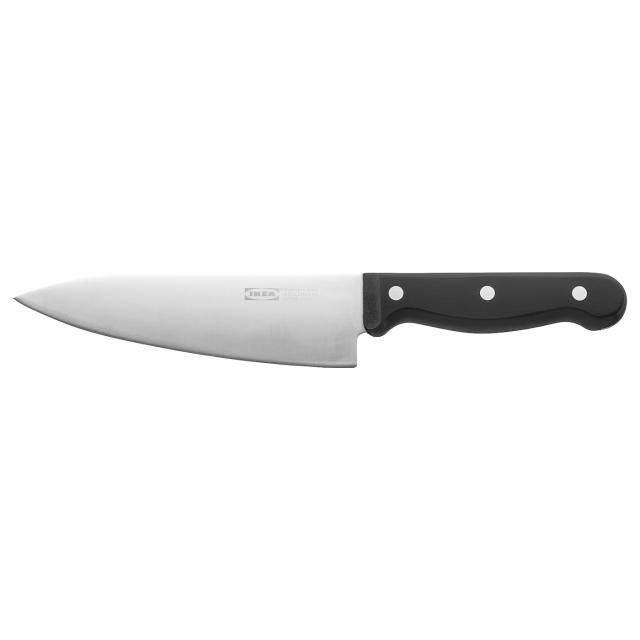Knife: (16, 261, 630, 376)
